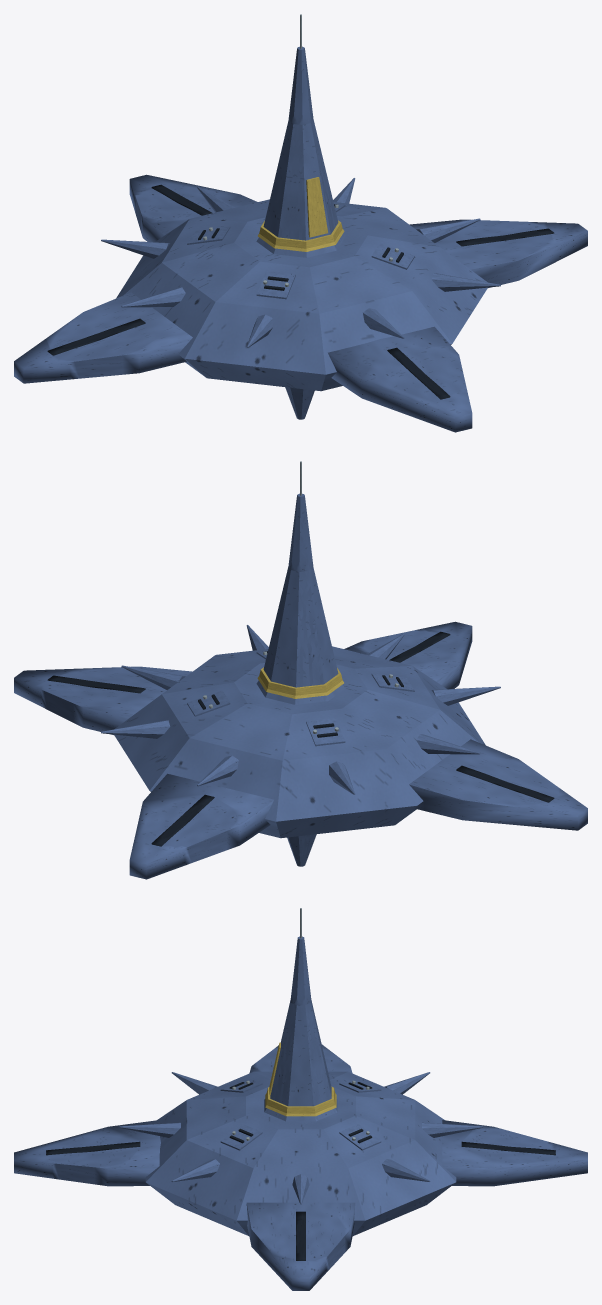
3 views of the same model, one above another, from view 1: azimuth 30°, elevation 25°; view 2: azimuth 150°, elevation 25°; view 3: azimuth 270°, elevation 25° (orthographic). The views are drawn at different scales.
Visible parts, largest first — view 1: RecessedMachinery, PrimaryHullAndArmour, ServiceAssemblies; view 2: RecessedMachinery, PrimaryHullAndArmour, ServiceAssemblies; view 3: RecessedMachinery, PrimaryHullAndArmour, ServiceAssemblies.
Boxes of the visible parts, <box> form: RecessedMachinery: <box>101,178,500,391</box>; PrimaryHullAndArmour: <box>14,14,587,432</box>; ServiceAssemblies: <box>187,203,414,299</box>; RecessedMachinery: <box>101,625,500,838</box>; PrimaryHullAndArmour: <box>14,461,587,879</box>; ServiceAssemblies: <box>187,650,414,746</box>; RecessedMachinery: <box>119,1071,483,1235</box>; PrimaryHullAndArmour: <box>14,908,587,1290</box>; ServiceAssemblies: <box>220,1081,381,1150</box>.
Bounding box in the file's own units: 2.32 × 1.58 × 2.32.
Materials: 1 (1 with a texture image).
